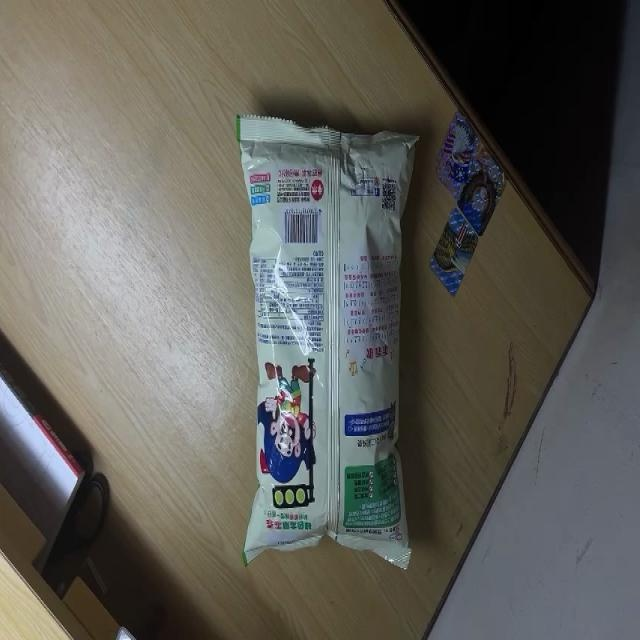Good-Luck: (238, 111, 419, 570)
